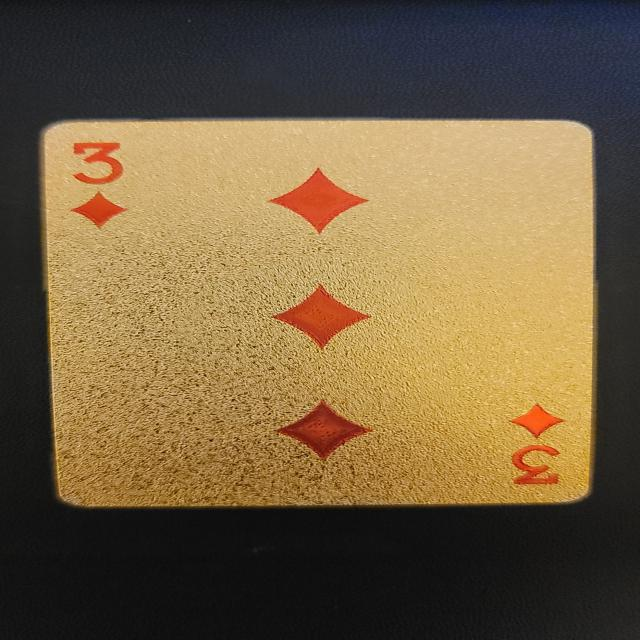3 of diamonds: (41, 117, 595, 508)
